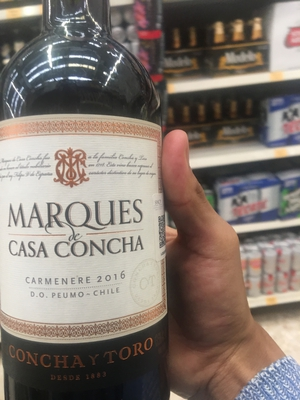marques de casa concha carmenere: (2, 22, 173, 400)
